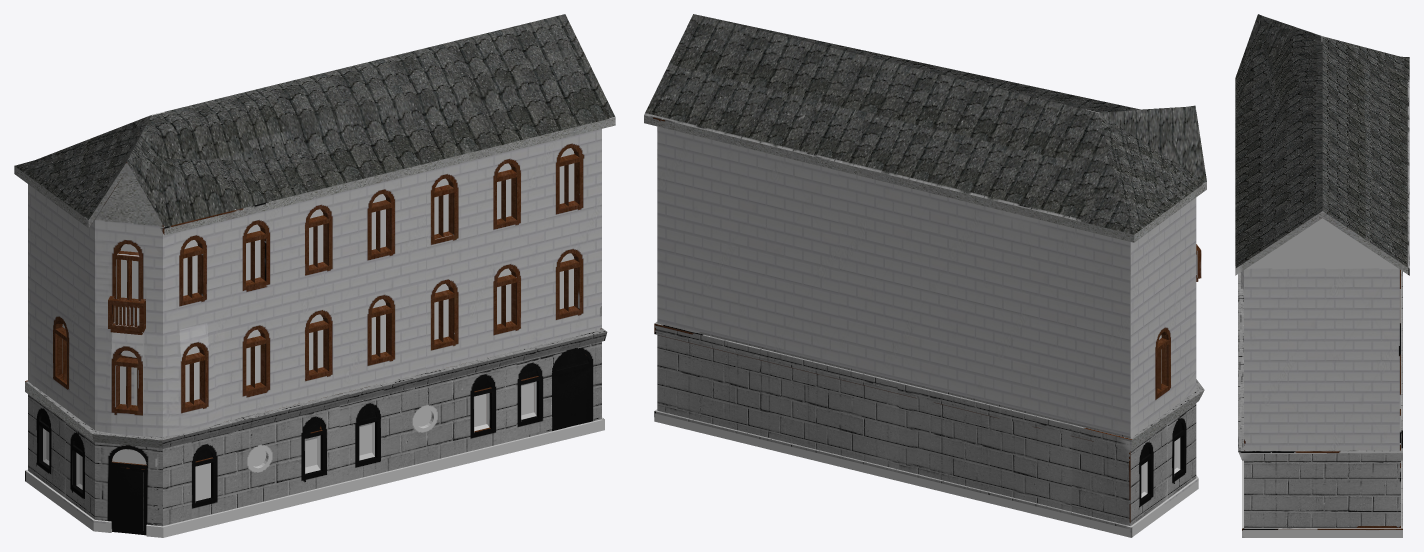
Rendered from Museo01.fbx.
3 views of the same model, side by side, from view 1: azimuth 30°, elevation 25°; view 2: azimuth 150°, elevation 25°; view 3: azimuth 270°, elevation 25° (orthographic). The views are drawn at different scales.
Visible parts, largest first — view 1: building_015; view 2: building_015; view 3: building_015.
Boxes of the visible parts, x1,y1,x2,y2 form: building_015: (14, 14, 615, 537); building_015: (644, 14, 1206, 537); building_015: (1235, 14, 1409, 537).
Size of the model in its own units: 1874 by 1362 by 652.
